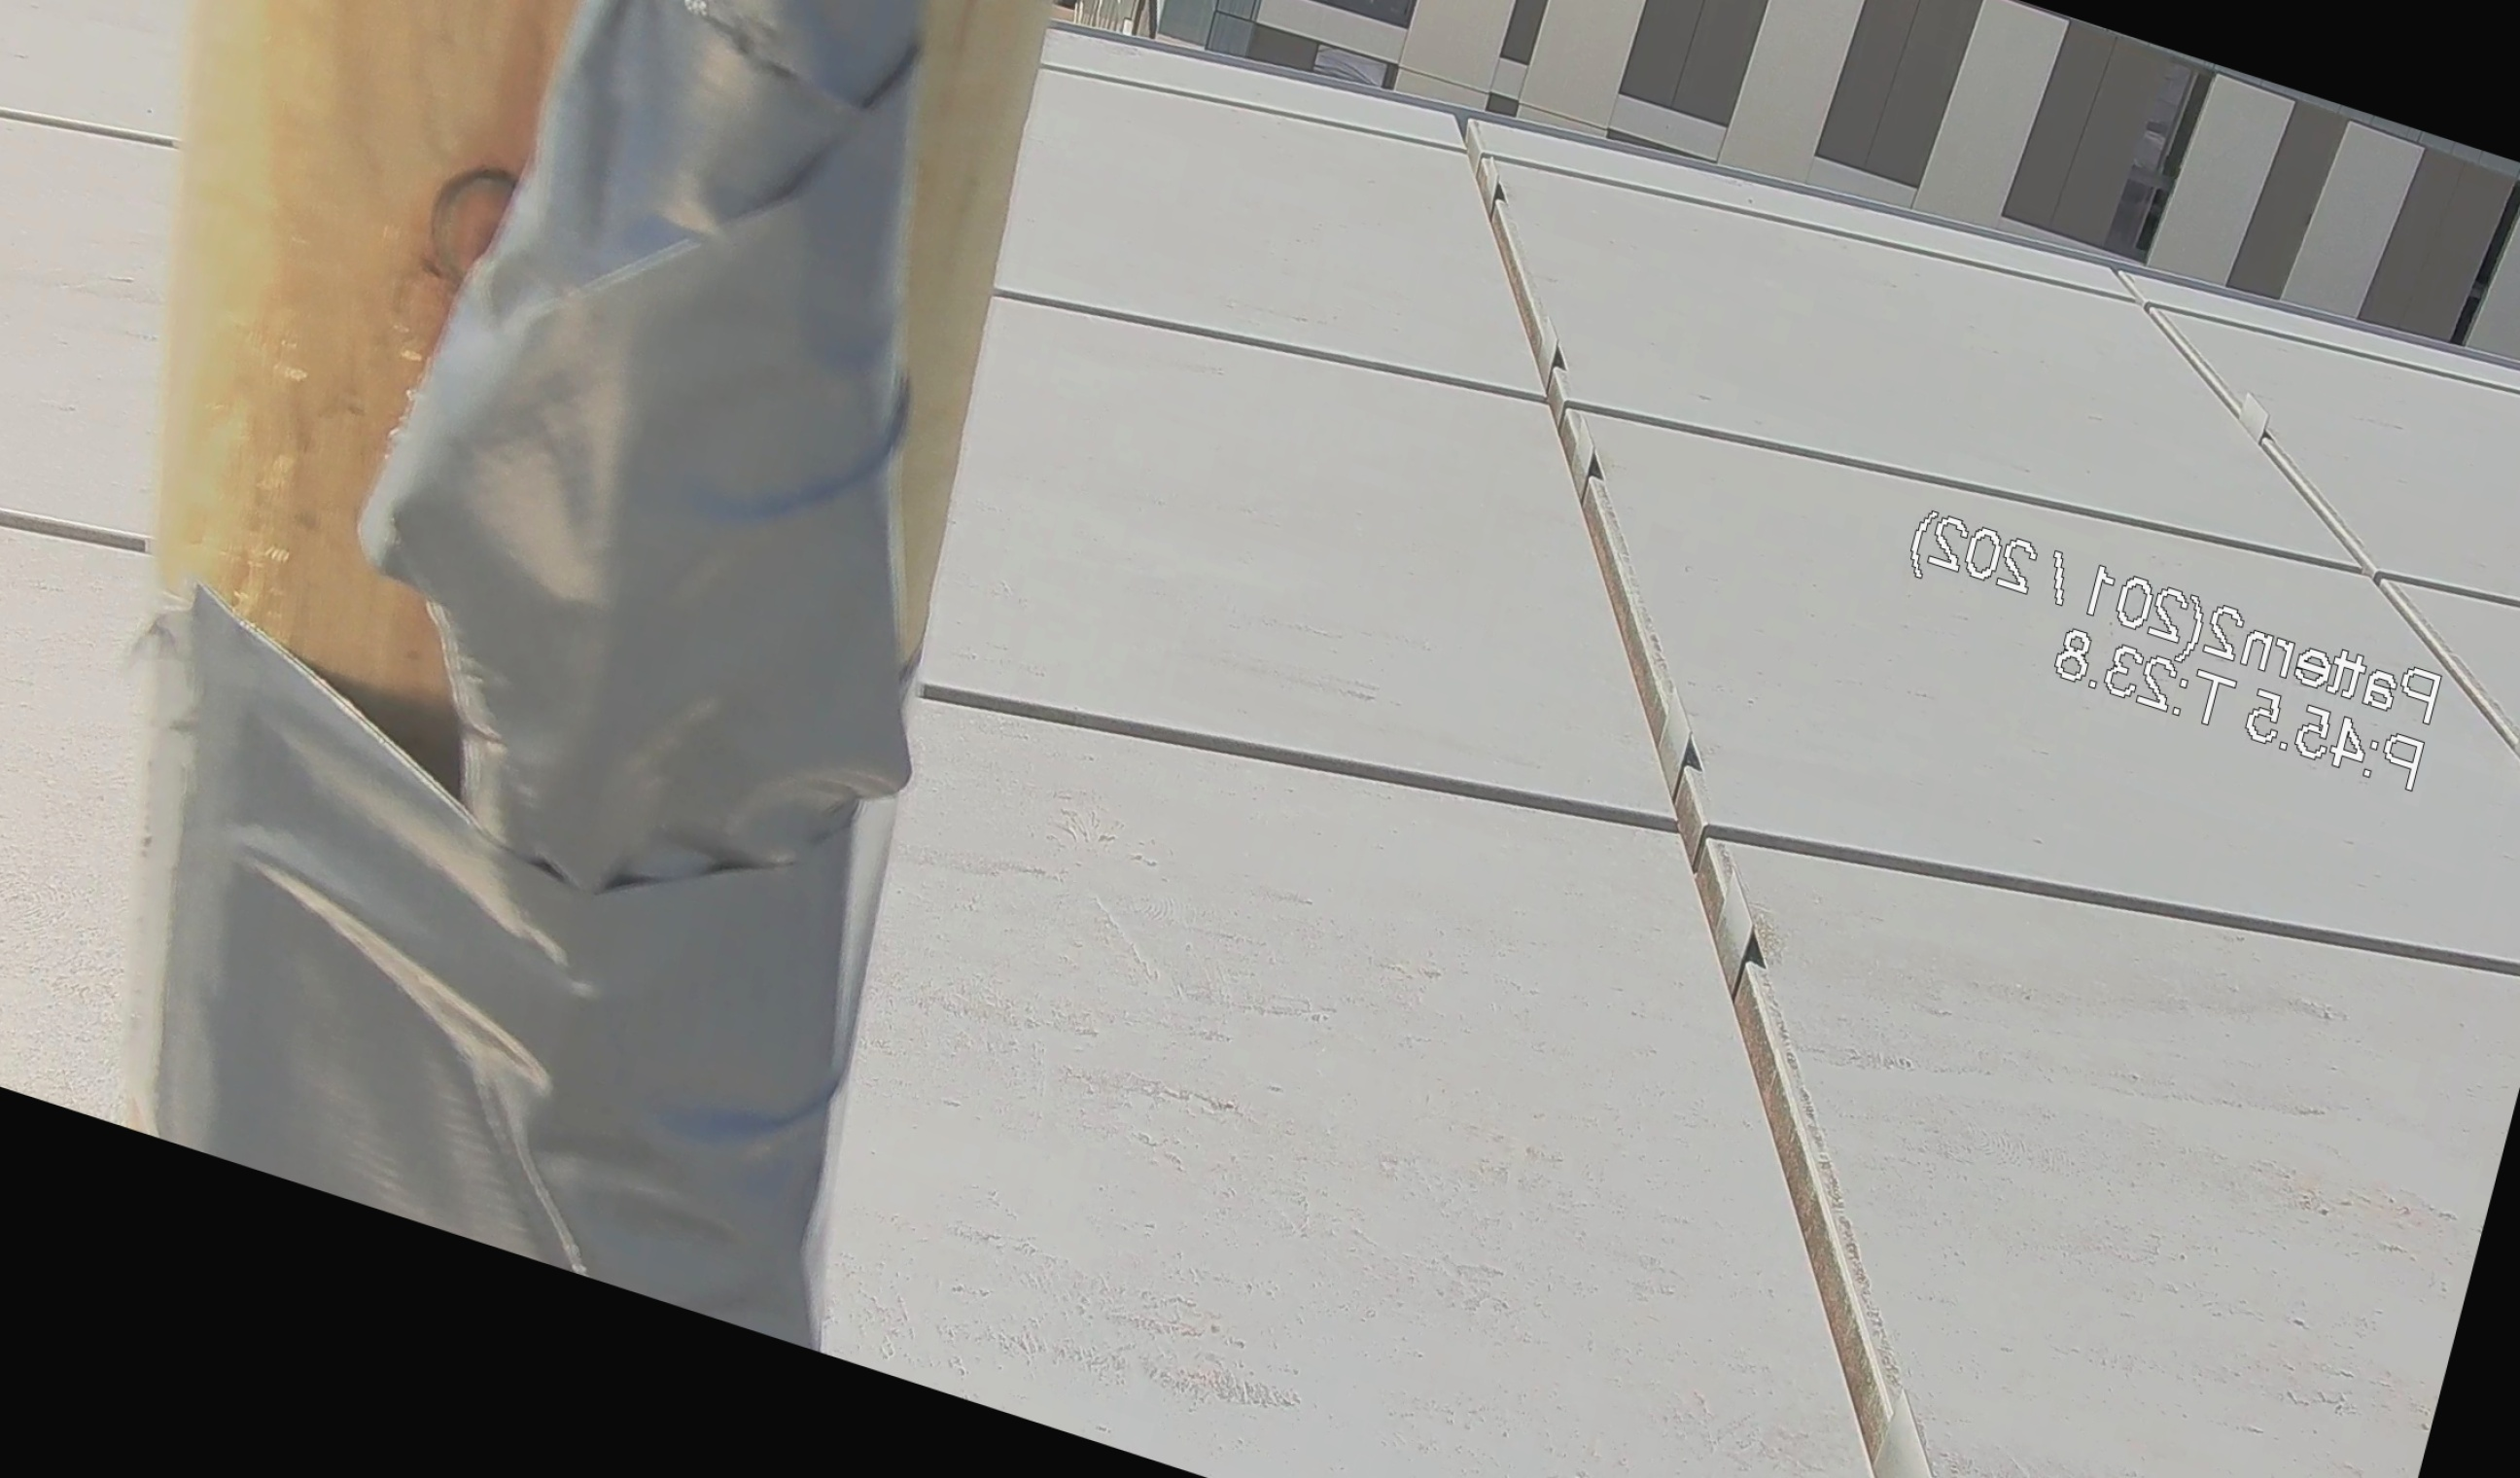Other: (209, 0, 1180, 1065)
